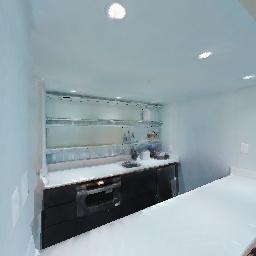table: (38, 176, 256, 256)
